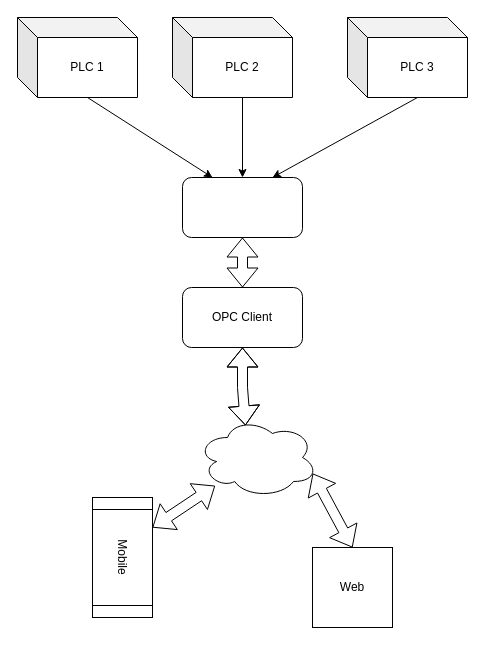
This 485x645 diagram has some shape labels left out. Here are the shapes that lost their labels. From the top down, the box of each, then its label:
(182, 176, 302, 238): OPC Server
(196, 416, 318, 498): Back-end
